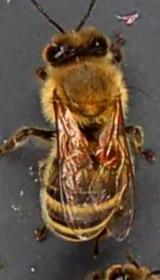varroa_mite: (91, 144, 118, 168)
